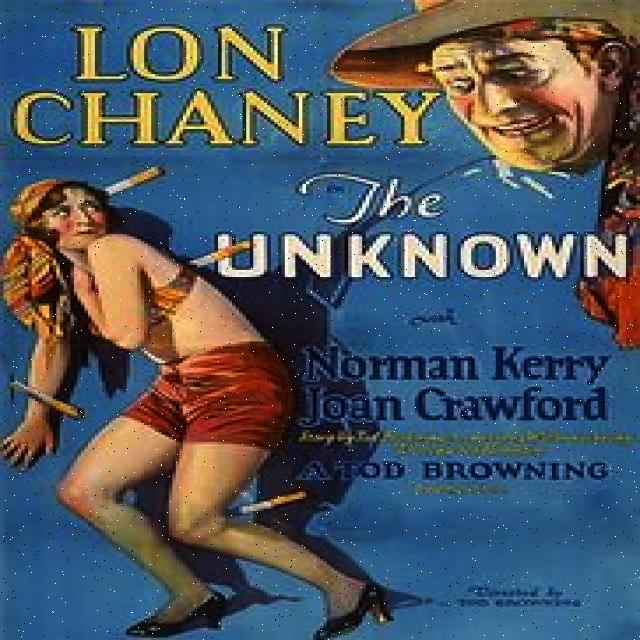movie-judul: (221, 170, 625, 284)
picture: (2, 169, 373, 640), (348, 12, 640, 160)
